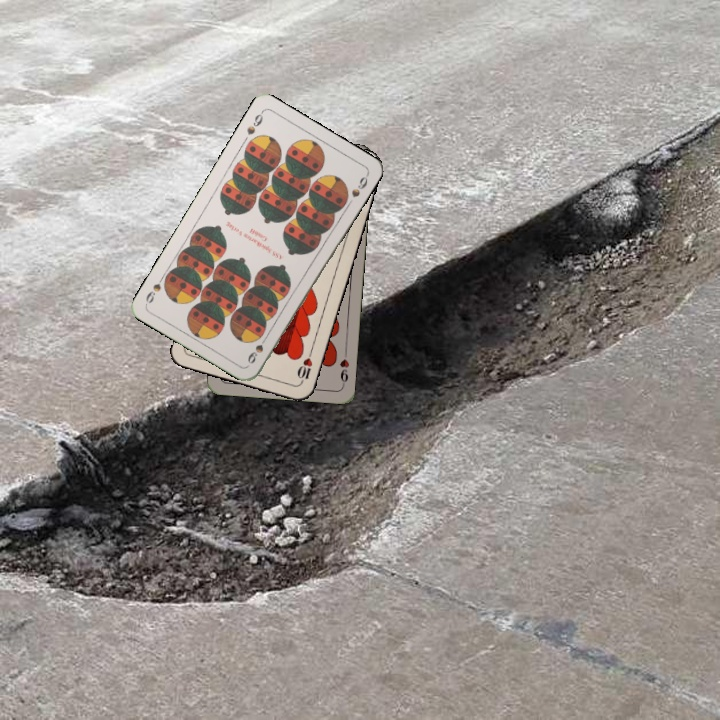H10: (293, 346, 315, 386)
H9: (336, 347, 352, 388)
S9: (243, 331, 271, 366), (243, 107, 266, 137)
